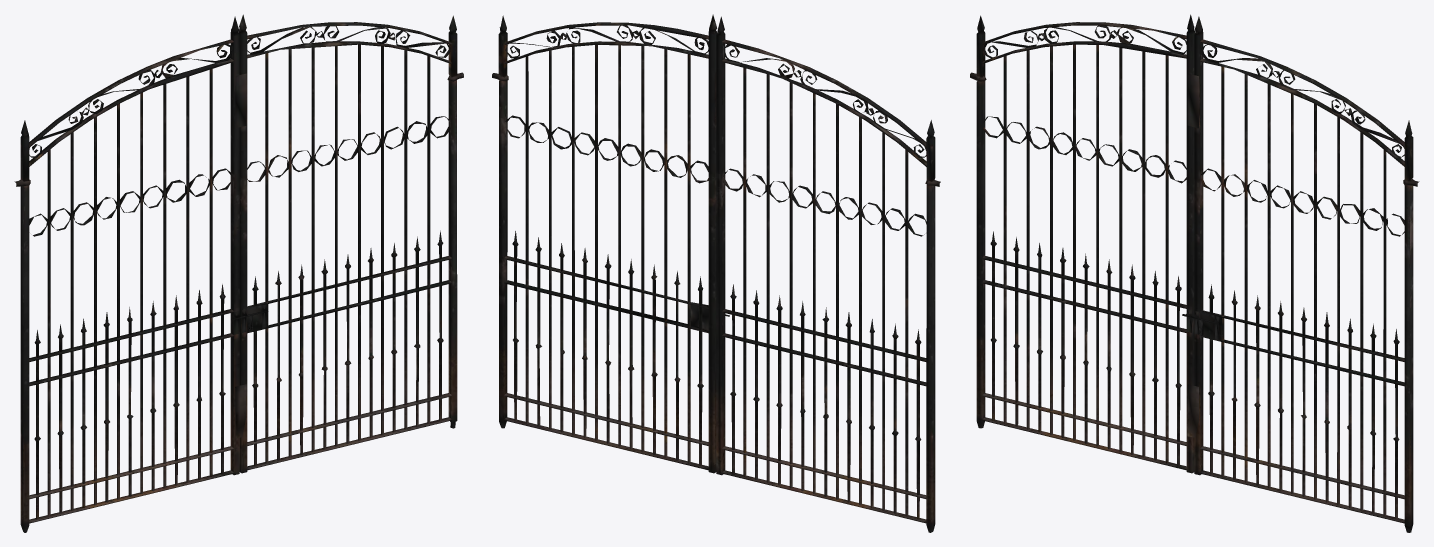
The model's file is gate.glb.
The picture shows the model from 3 angles, left to right: view 1: azimuth 30°, elevation 25°; view 2: azimuth 150°, elevation 25°; view 3: azimuth 330°, elevation 25°; orthographic projection.
Visible parts, largest first — view 1: large_iron_gate_right_door; view 2: large_iron_gate_right_door; view 3: large_iron_gate_right_door.
Boxes of the visible parts, box(x1,y1,x2,y2) form: large_iron_gate_right_door: box(14, 14, 463, 532); large_iron_gate_right_door: box(492, 14, 940, 532); large_iron_gate_right_door: box(970, 14, 1419, 532).
Size of the model in its own units: 2.95 by 2.93 by 0.0958.
1 material, 1 textured.
